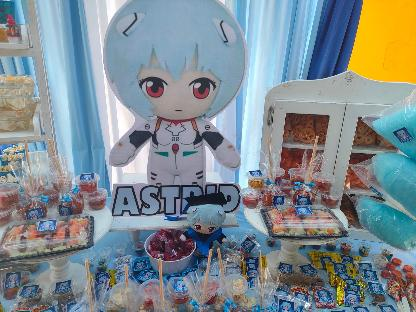rei-plush: (101, 0, 251, 188), (179, 195, 229, 245)
